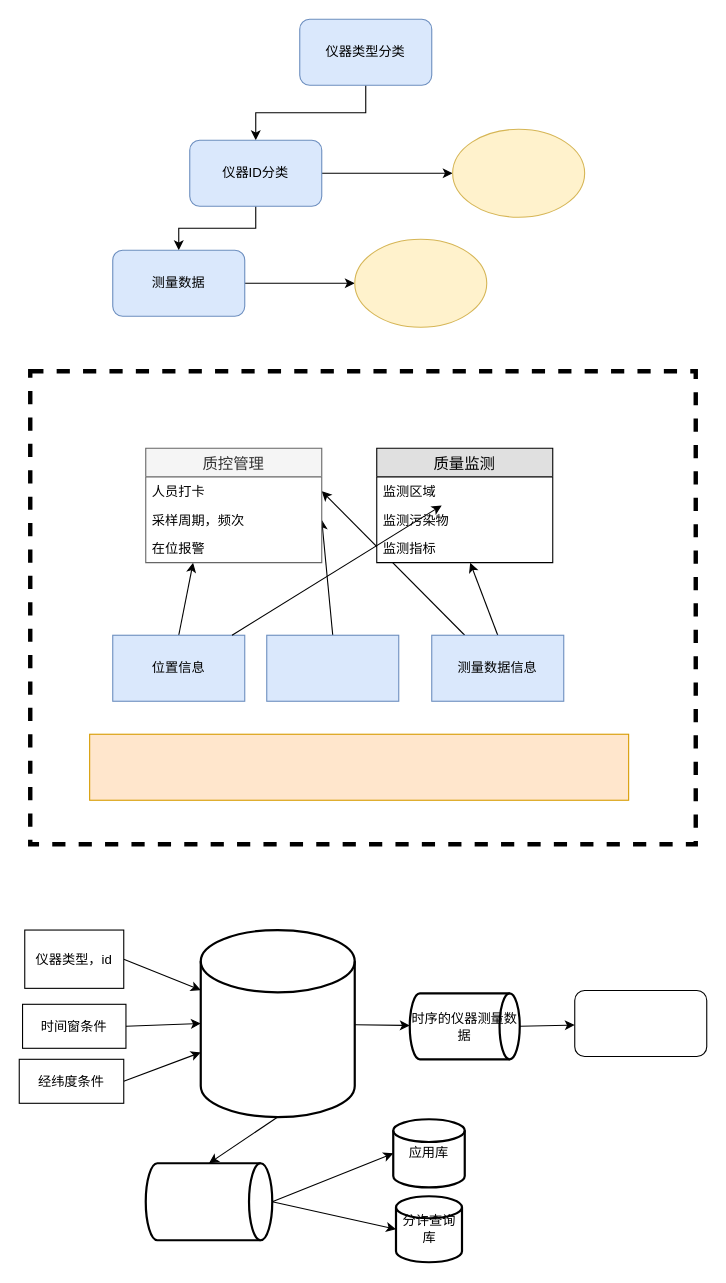
Image size: 726x1283. Some labels were removed from this diagram. The shapes that lost their labels are listed below. From the top down, each one's centre as x and y in pixels, then its label:
At point 518,172: "同类型仪器对比分析".
At point 420,282: "仪器工作数据分析".
At point 332,667: "时间信息".
At point 359,766: "仪器上传数据".
At point 277,1023: "仪器上传的数据".
At point 640,1023: "赋予应用含义，然后用于显示".
At point 208,1201: "分时间。类型，地域，数据解析清洗".
